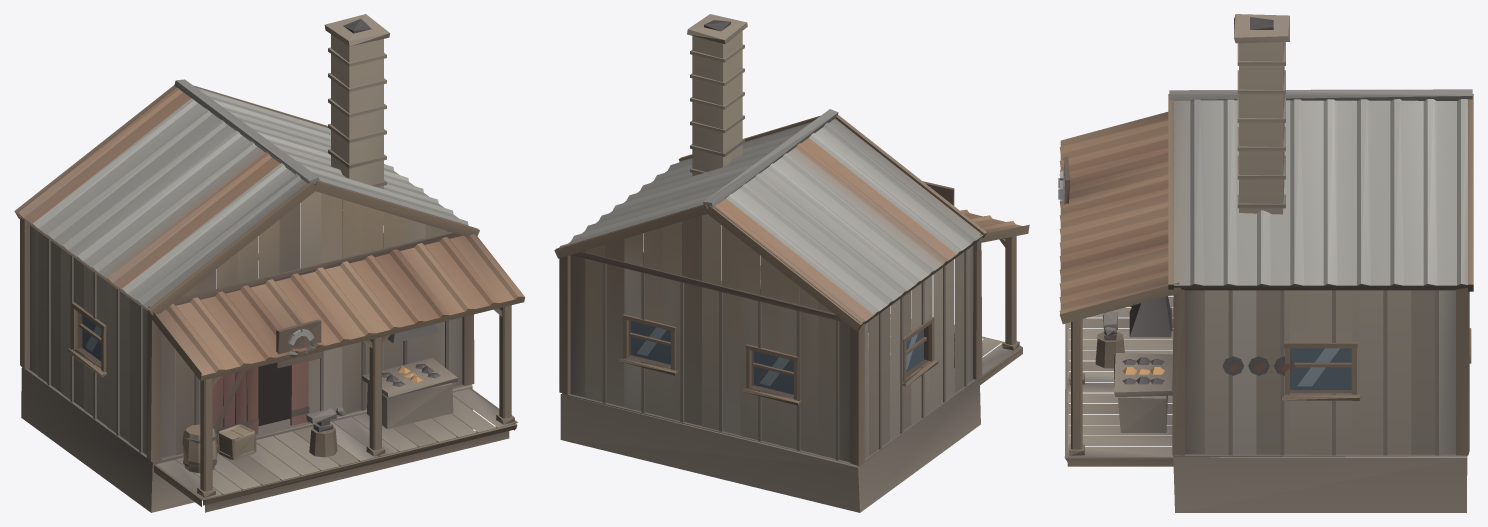
File: house_8.lod1.glb
The picture shows the model from 3 angles, left to right: view 1: azimuth 30°, elevation 25°; view 2: azimuth 150°, elevation 25°; view 3: azimuth 270°, elevation 25°; orthographic projection. The views are drawn at different scales.
Size of the model in its own units: 7.47 by 8.67 by 7.27.
